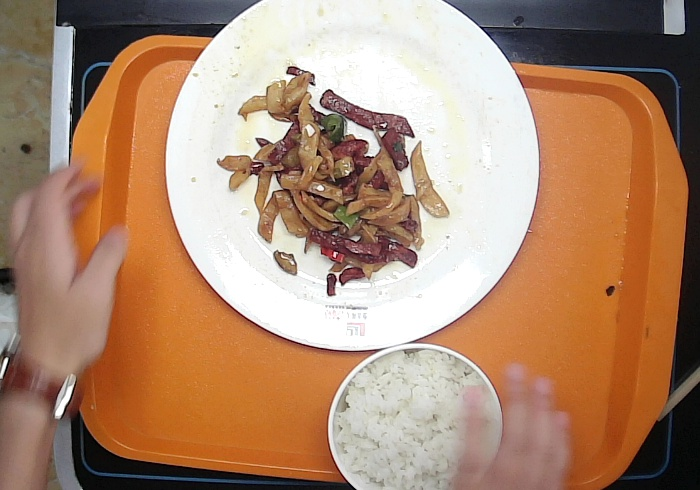ZNLD-Da_Yuan_Pan: (160, 1, 548, 361)
ZNLD-Fan_Wan: (324, 335, 515, 490)
